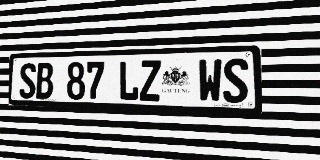7: (86, 61, 105, 100)
8: (67, 62, 85, 100)
B: (36, 62, 53, 99)
L: (119, 61, 139, 101)
S: (223, 58, 248, 103), (19, 63, 36, 99)
W: (198, 59, 222, 103)
Z: (140, 60, 161, 101)
